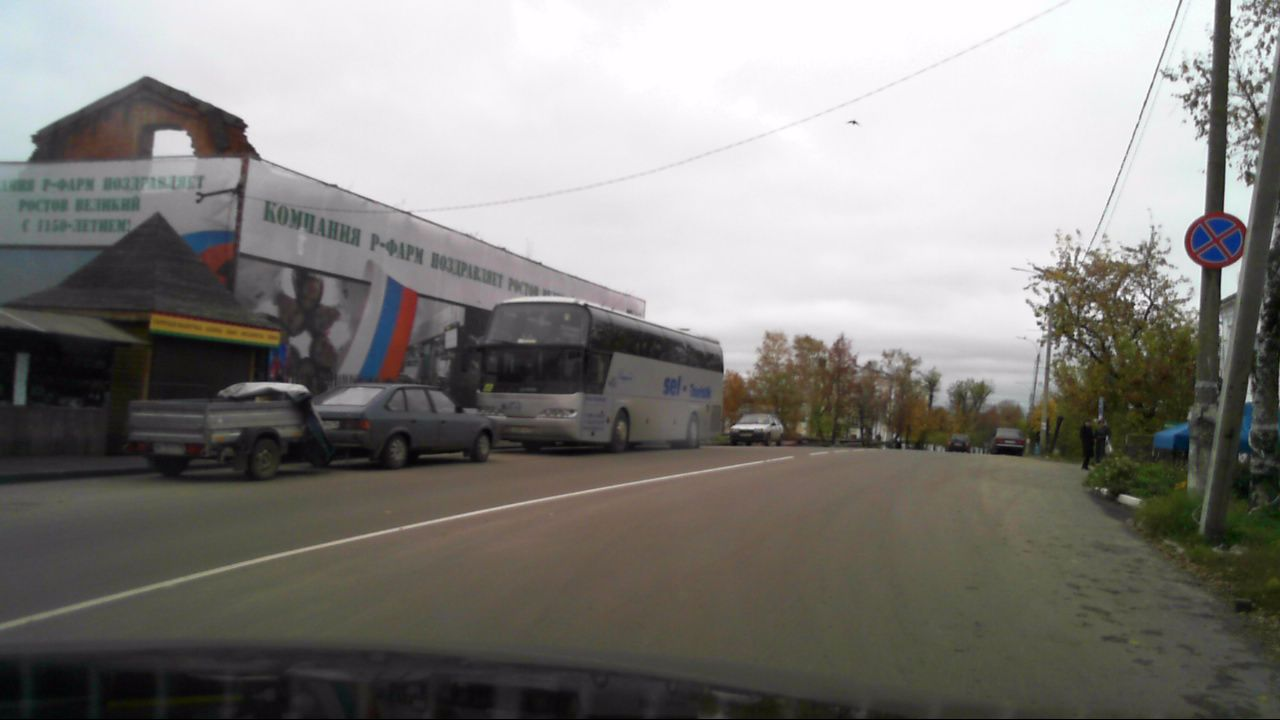No Parking: (1185, 212, 1245, 269)
